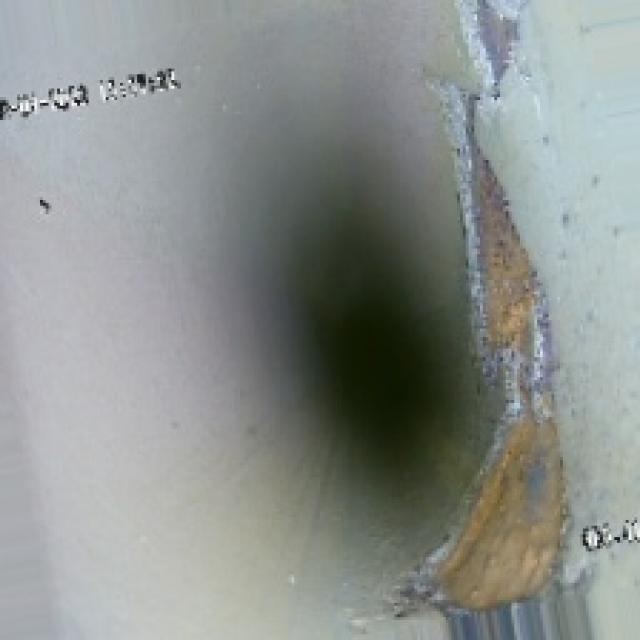pipe_surface_damage: (406, 86, 597, 637)
